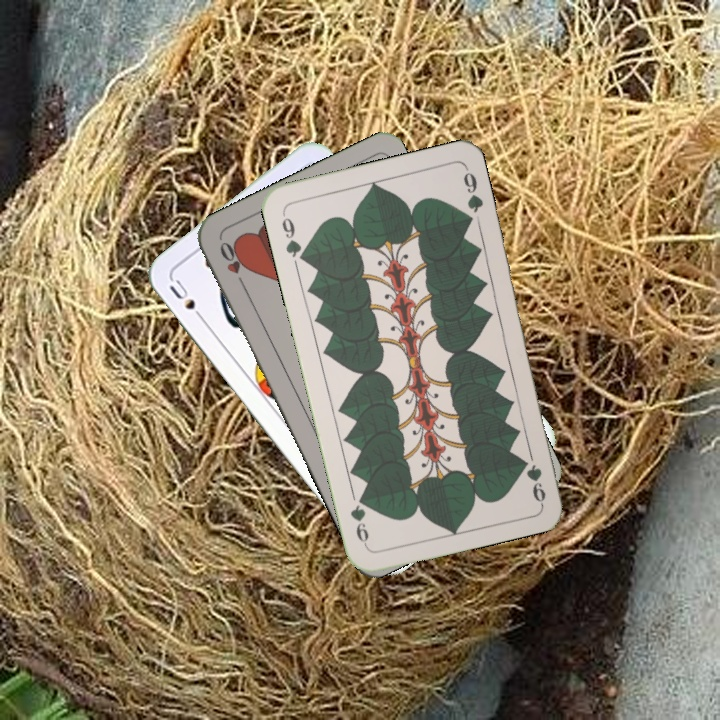G9: (277, 209, 309, 265), (524, 461, 548, 506)
HO: (215, 237, 249, 292)
SU: (165, 275, 209, 326)
